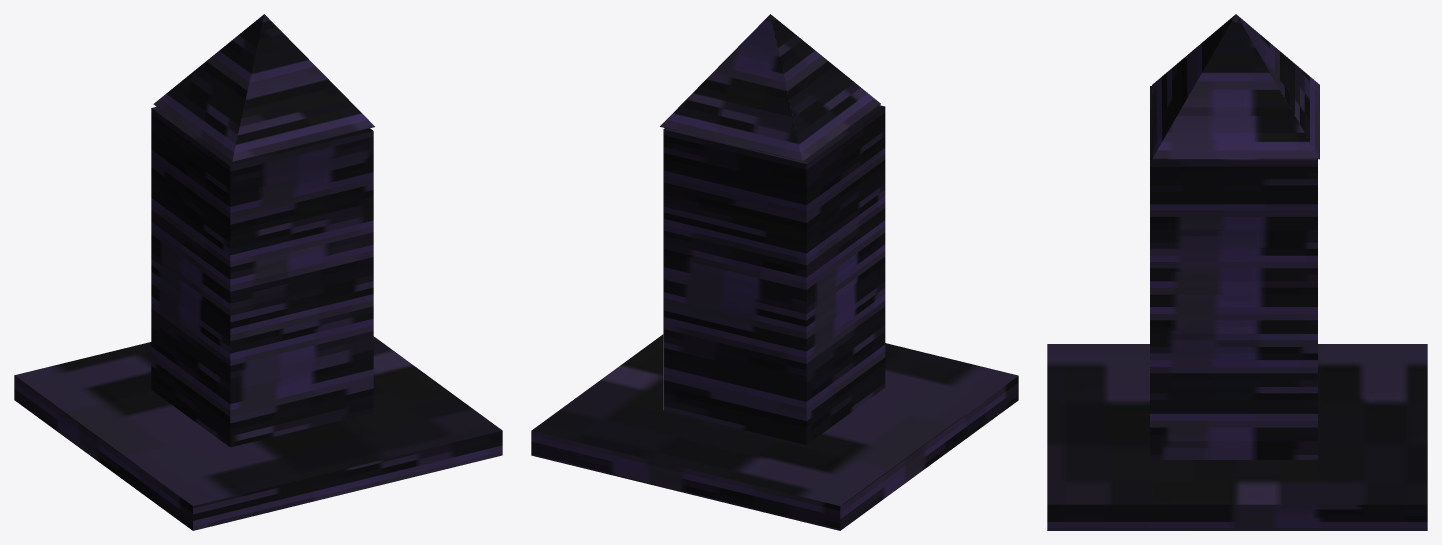
Rendered from runic_obelisk.obj.
3 renders of one model, left to right at view 1: azimuth 30°, elevation 25°; view 2: azimuth 150°, elevation 25°; view 3: azimuth 270°, elevation 25°, orthographic. The views are drawn at different scales.
Parts seen in each view (by area): view 1: Cube; view 2: Cube; view 3: Cube.
Boxes of the visible parts, x1,y1,x2,y2 form: Cube: [14, 14, 502, 530]; Cube: [531, 14, 1018, 530]; Cube: [1047, 14, 1427, 530].
Size of the model in its own units: 1 by 1.27 by 1.
